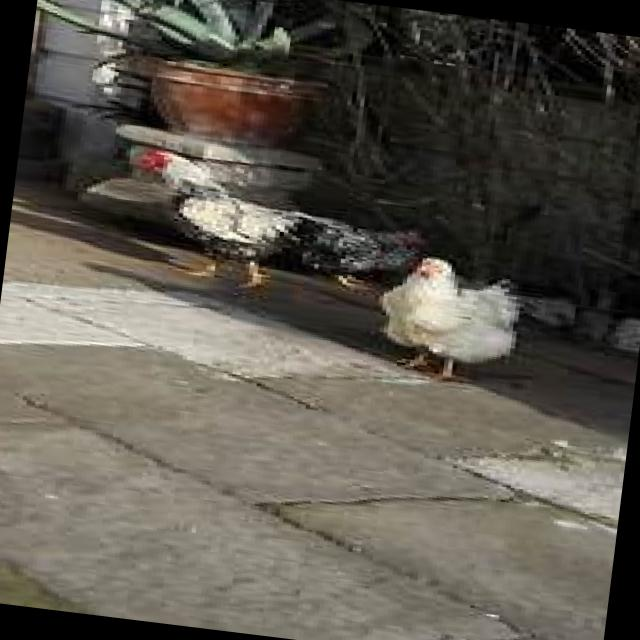animal: (121, 146, 392, 307), (370, 248, 532, 389), (276, 207, 436, 301)
